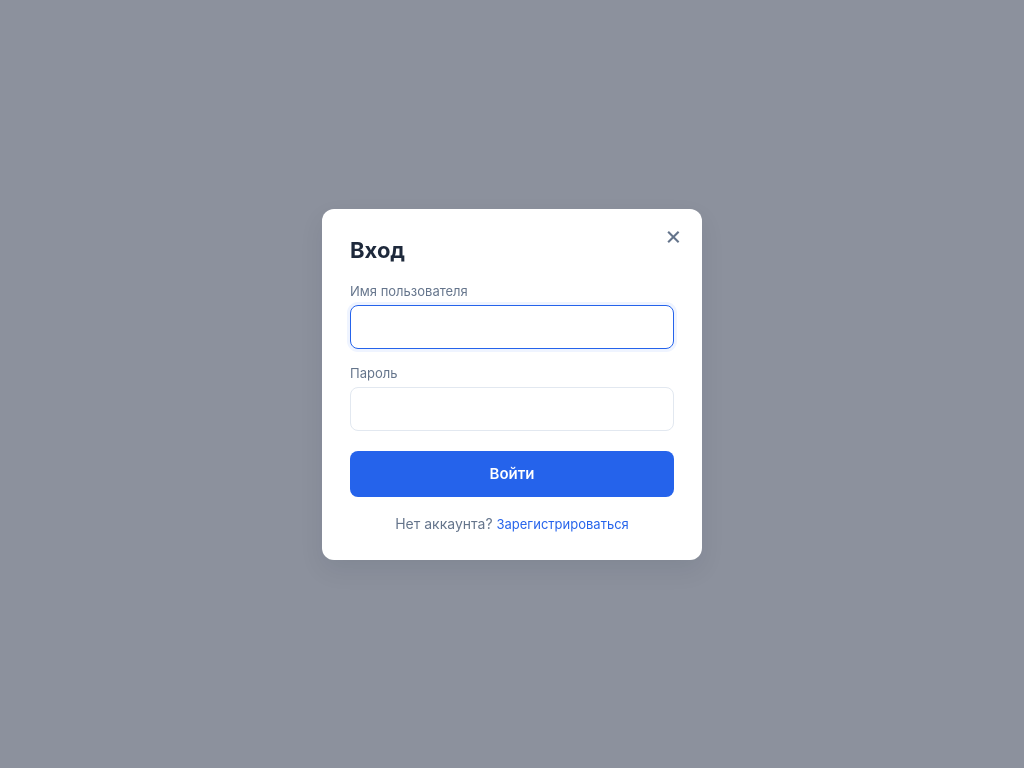
validates required credentials
Click the button "Войти" at (512, 474), box x1=350 y1=450 x2=674 y2=496
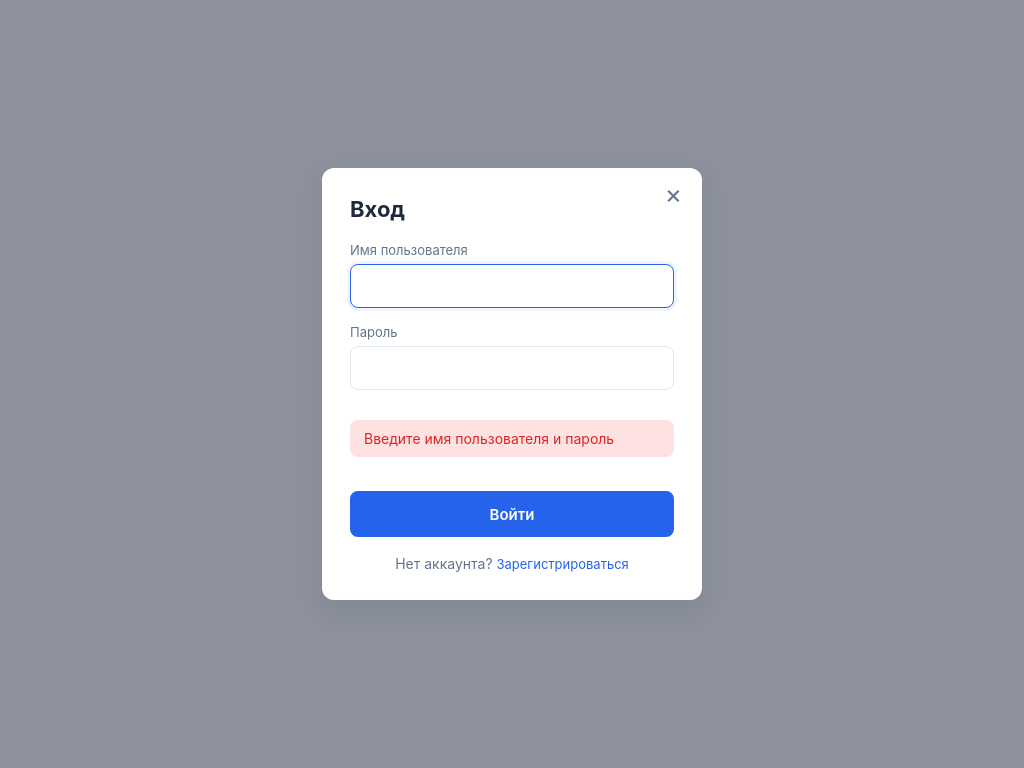
Result: the text "Введите имя пользователя и пароль" is shown at x1=350 y1=420 x2=674 y2=457
